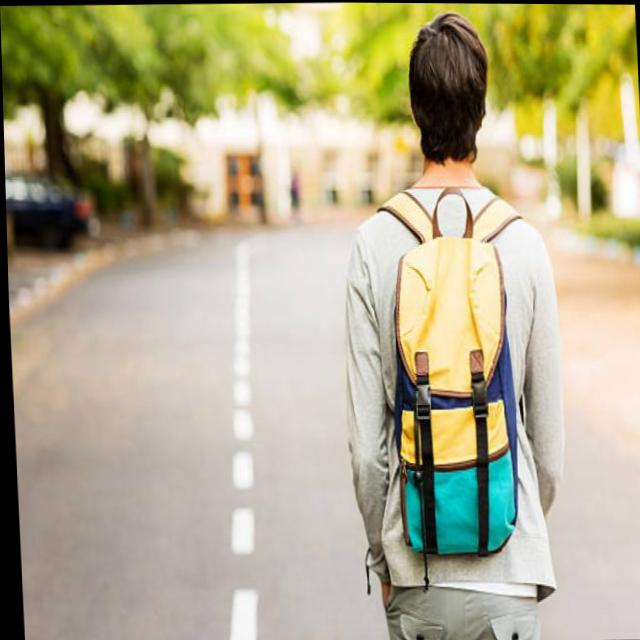no helmet: (379, 2, 506, 193)
